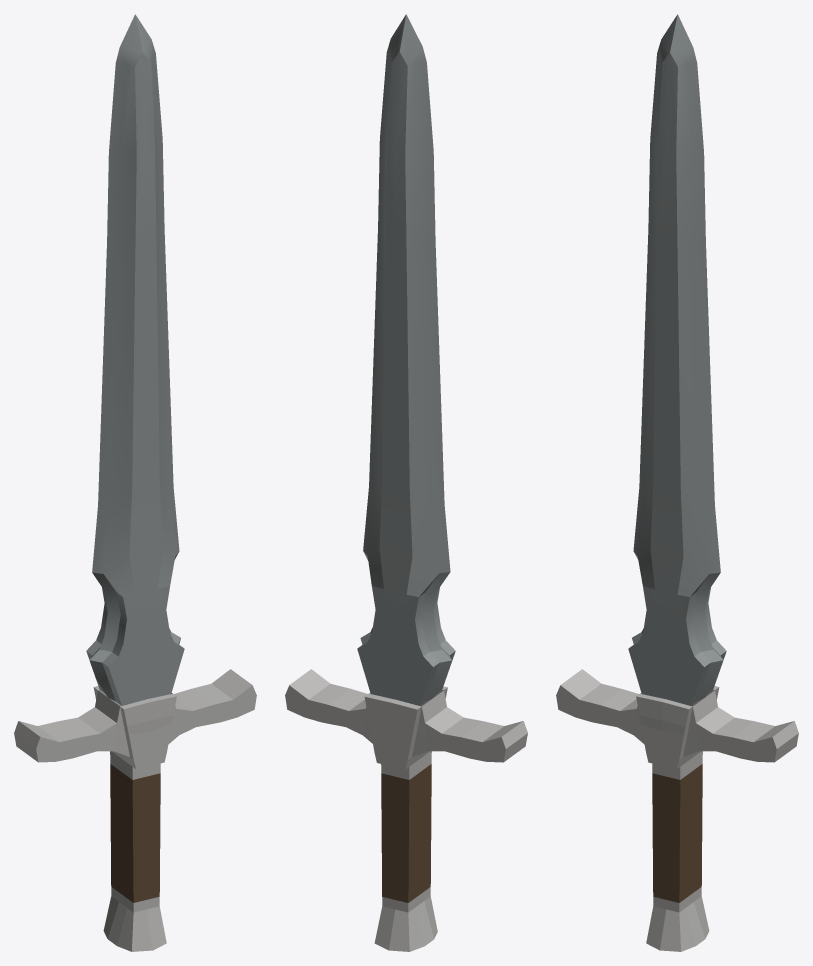
File: player sword.fbx
The picture shows the model from 3 angles, left to right: view 1: azimuth 30°, elevation 25°; view 2: azimuth 150°, elevation 25°; view 3: azimuth 330°, elevation 25°; orthographic projection.
Visible parts, largest first — view 1: knife, handguard; view 2: knife, handguard; view 3: knife, handguard.
Boxes of the visible parts, x1,y1,x2,y2 form: knife: [86, 14, 184, 705]; handguard: [14, 669, 256, 951]; knife: [357, 14, 455, 705]; handguard: [285, 669, 527, 951]; knife: [628, 14, 726, 705]; handguard: [556, 669, 798, 951].
Size of the model in its own units: 19.52 by 78.86 by 5.42.
